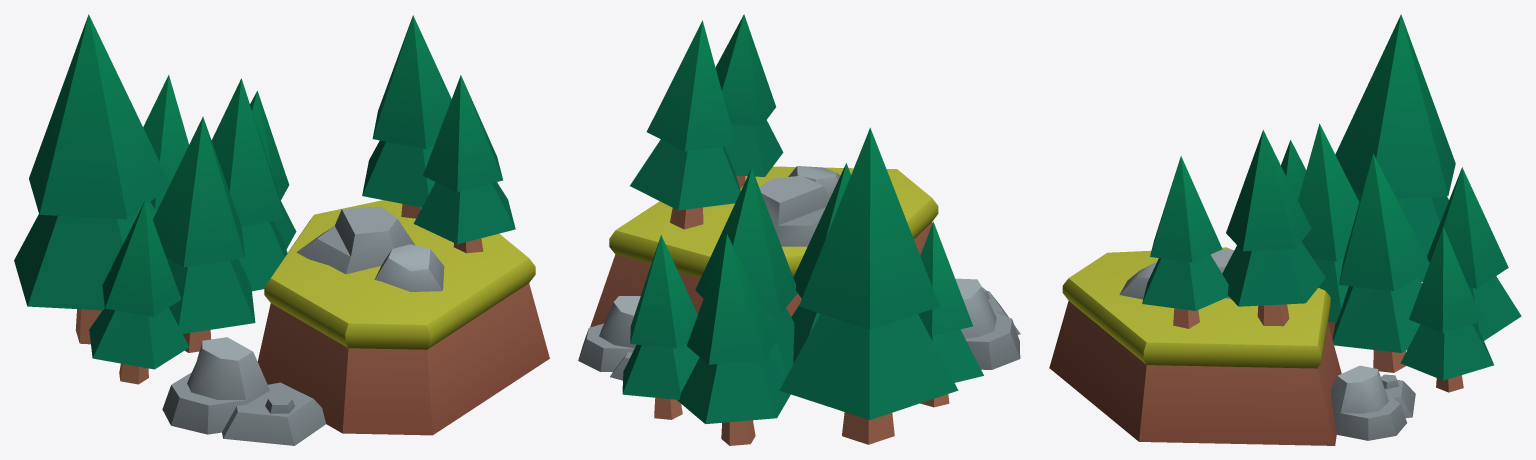
File: hills_C_trees.glb
3 views of the same model, side by side, from view 1: azimuth 30°, elevation 25°; view 2: azimuth 150°, elevation 25°; view 3: azimuth 270°, elevation 25° (orthographic). The views are drawn at different scales.
Parts seen in each view (by area): view 1: hills_C_trees; view 2: hills_C_trees; view 3: hills_C_trees.
Part boxes in pixels (<box>): hills_C_trees: <box>14,14,549,445</box>; hills_C_trees: <box>578,14,1020,445</box>; hills_C_trees: <box>1049,14,1521,445</box>.
Size of the model in its own units: 1.7 by 1.3 by 1.9.
Materials: 1 (1 with a texture image).
